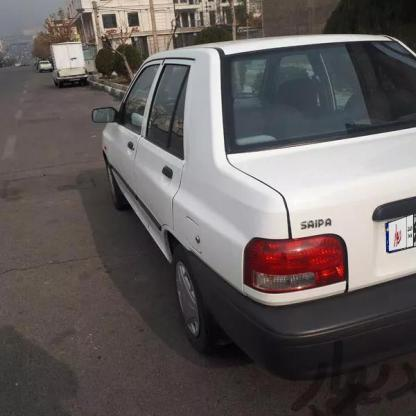Car: (112, 16, 416, 390), (51, 39, 102, 93), (30, 58, 55, 75)
